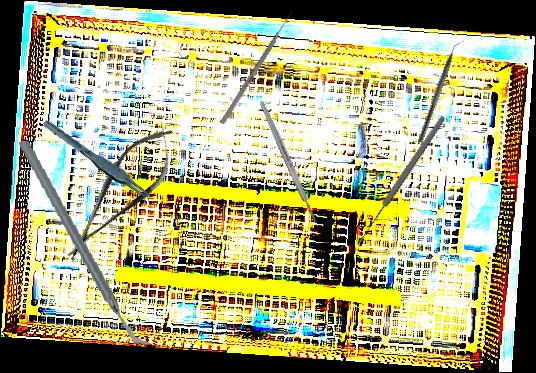Chopper: (17, 130, 153, 357), (417, 36, 466, 146)
Micro Scissor: (48, 115, 192, 272)
Pusher: (219, 10, 295, 125)
Scalpel Handle: (258, 99, 319, 225)
Surgical Spoon: (355, 114, 447, 246)
Tissue Forceps: (41, 107, 156, 217)
